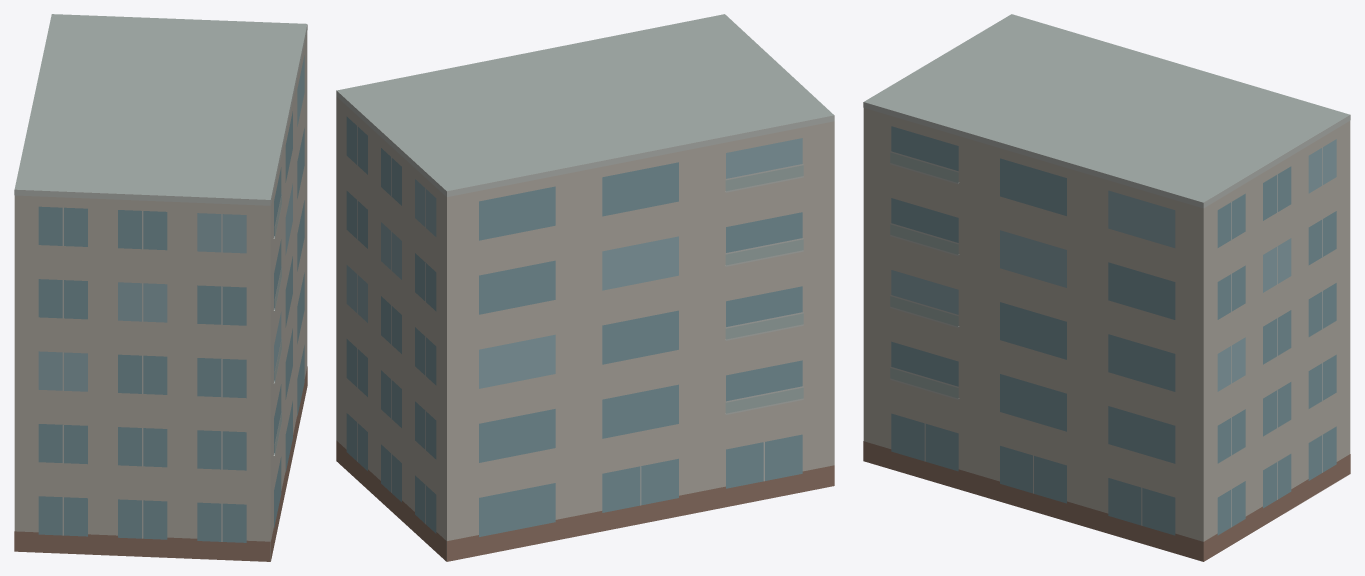
The model's file is survey-upis-33005131.glb.
3 renders of one model, left to right at view 1: azimuth 30°, elevation 25°; view 2: azimuth 150°, elevation 25°; view 3: azimuth 270°, elevation 25°, orthographic. The views are drawn at different scales.
Visible parts, largest first — view 1: survey-upis-33005131.tmp; view 2: survey-upis-33005131.tmp; view 3: survey-upis-33005131.tmp.
Part boxes in pixels (box(x1,y1,x2,y2)): survey-upis-33005131.tmp: box(14, 14, 307, 561); survey-upis-33005131.tmp: box(336, 14, 834, 561); survey-upis-33005131.tmp: box(863, 14, 1350, 561).
Bounding box in the file's own units: 17.19 × 15.25 × 18.75.
